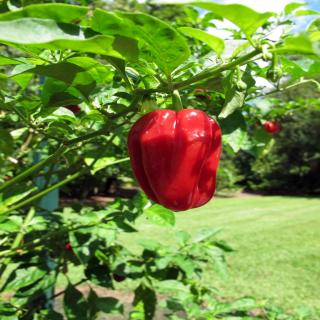Bell pepper: (127, 108, 221, 212)
